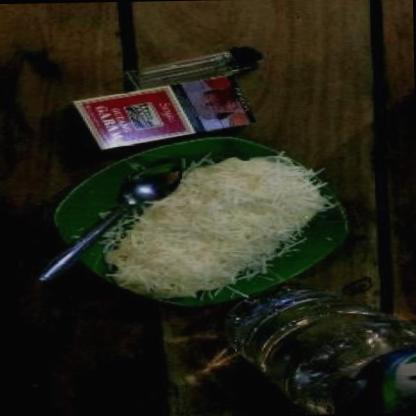objects: (73, 74, 256, 150)
